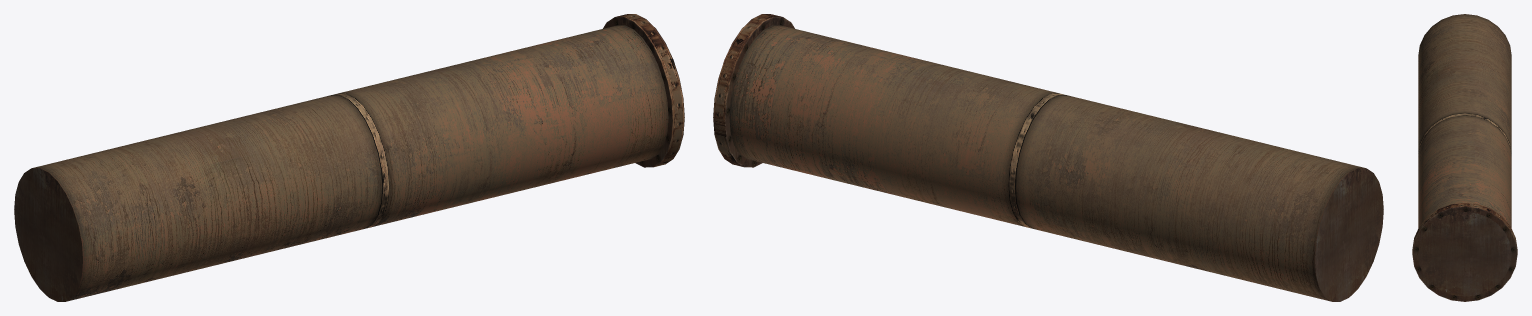
The model's file is pipe_01.fbx.
3 views of the same model, side by side, from view 1: azimuth 30°, elevation 25°; view 2: azimuth 150°, elevation 25°; view 3: azimuth 270°, elevation 25° (orthographic). The views are drawn at different scales.
Parts seen in each view (by area): view 1: Mesh; view 2: Mesh; view 3: Mesh.
Boxes of the visible parts, x1=… form: Mesh: x1=14, y1=14, x2=684, y2=301; Mesh: x1=713, y1=14, x2=1383, y2=301; Mesh: x1=1412, y1=14, x2=1517, y2=301.
Bounding box in the file's own units: 1000 × 225 × 225.
Materials: 1 (1 with a texture image).
